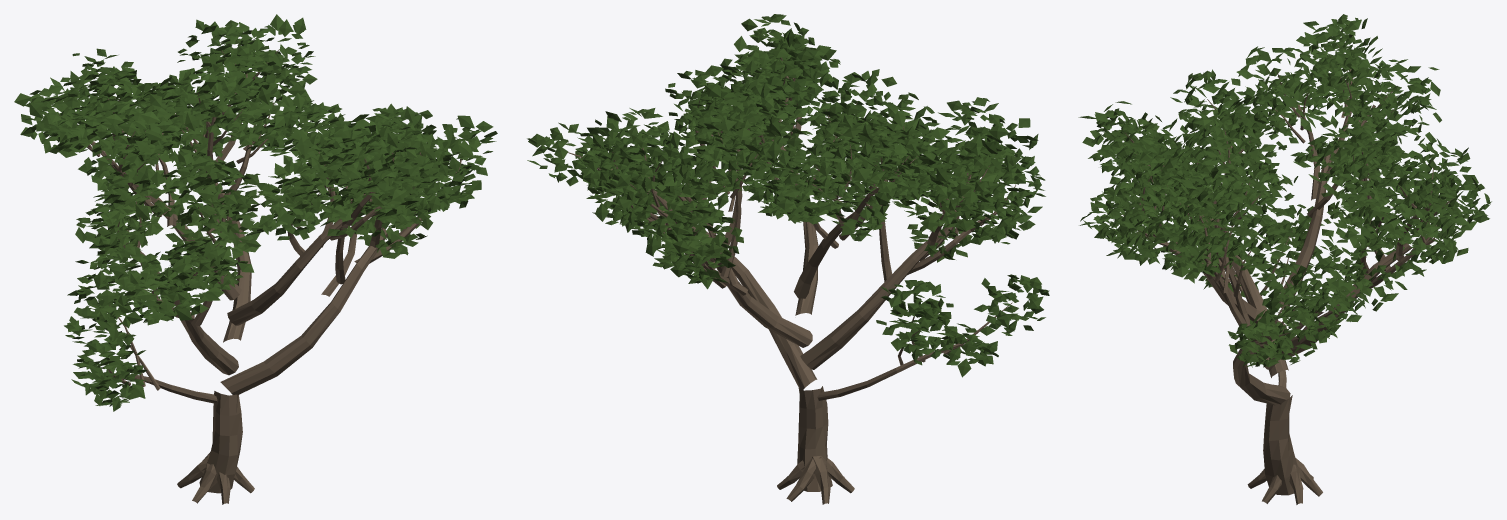
The model's file is spreading-oak.glb.
The picture shows the model from 3 angles, left to right: view 1: azimuth 30°, elevation 25°; view 2: azimuth 150°, elevation 25°; view 3: azimuth 270°, elevation 25°; orthographic projection.
Visible parts, largest first — view 1: individual-folded-leaves, connected-curved-wood; view 2: individual-folded-leaves, connected-curved-wood; view 3: individual-folded-leaves, connected-curved-wood.
Part boxes in pixels (x1,y1,x2,y2): individual-folded-leaves: (14,14,497,411); connected-curved-wood: (58,46,461,504); individual-folded-leaves: (527,14,1049,377); connected-curved-wood: (567,57,1015,504); individual-folded-leaves: (1078,14,1491,367); connected-curved-wood: (1122,44,1454,504).
Bounding box in the file's own units: 11.7 × 9.86 × 9.
